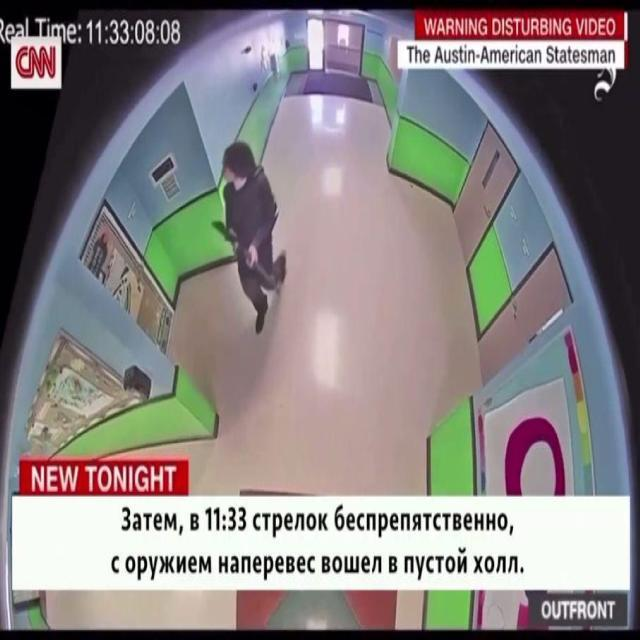pistol: (212, 218, 280, 297)
